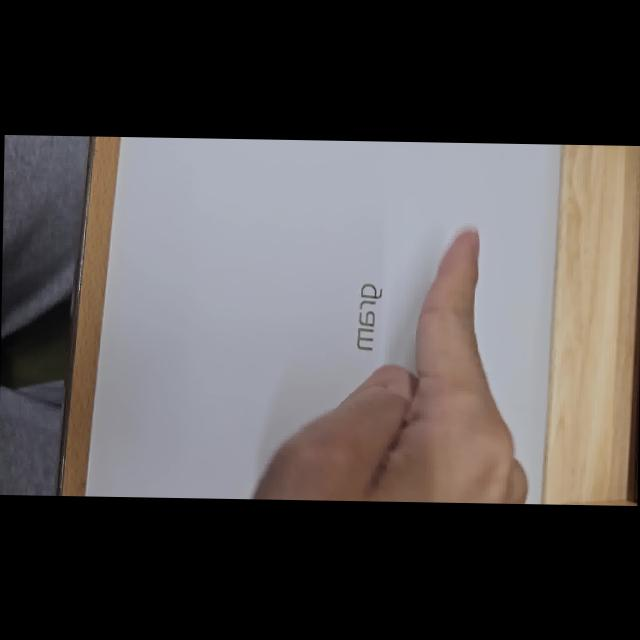fingertips: (436, 229, 478, 275)
